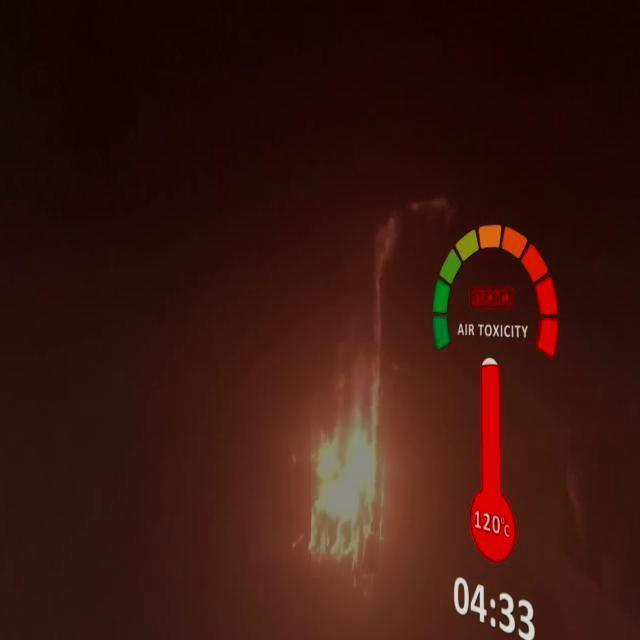smoke: (310, 394, 390, 563)
